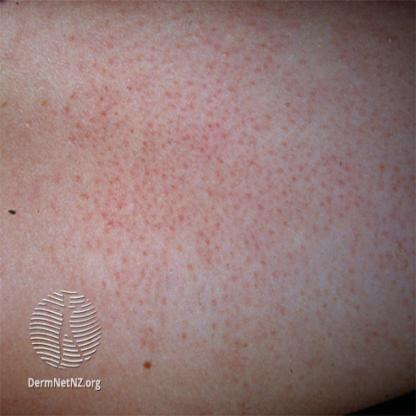Chicken Skin: (89, 112, 171, 304), (150, 58, 219, 239), (193, 171, 247, 317)
